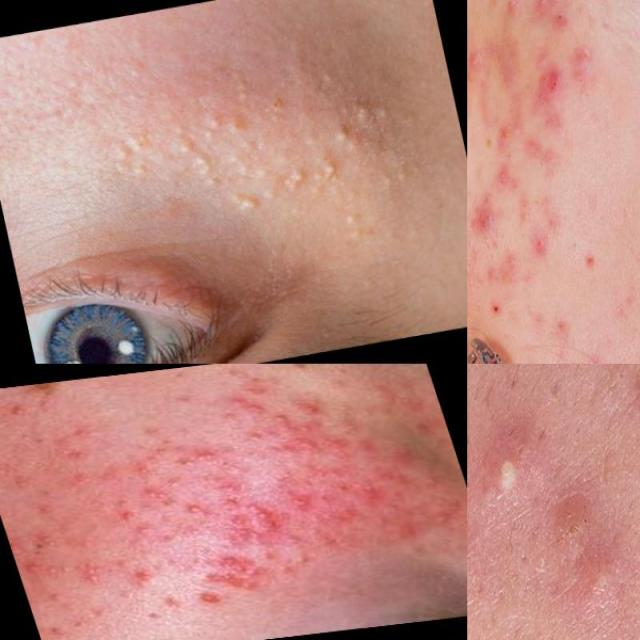acne_scars: (197, 551, 259, 576)
comedone: (161, 447, 228, 471), (23, 511, 62, 552), (68, 559, 116, 587), (133, 478, 171, 504), (42, 556, 72, 577), (280, 547, 311, 567), (241, 395, 268, 417), (12, 427, 47, 443), (614, 621, 640, 640), (264, 408, 291, 424)
cystic: (495, 0, 520, 22)
milium: (163, 106, 236, 154), (213, 146, 273, 187), (107, 129, 155, 164), (348, 98, 396, 132), (103, 154, 151, 187), (244, 182, 291, 214), (318, 122, 360, 155), (218, 185, 262, 216), (275, 167, 312, 200), (186, 153, 219, 185), (310, 155, 344, 185), (195, 173, 228, 196), (339, 206, 367, 230), (311, 67, 338, 91)
papule: (105, 503, 142, 525), (574, 37, 597, 71), (528, 224, 548, 261), (467, 40, 486, 74)
pustule: (484, 430, 534, 513), (468, 503, 487, 590), (242, 497, 278, 522), (184, 588, 222, 608), (14, 553, 41, 579), (179, 497, 212, 516), (361, 476, 386, 494)
sebo-crystan-conglo: (528, 65, 568, 104), (472, 194, 499, 244)
